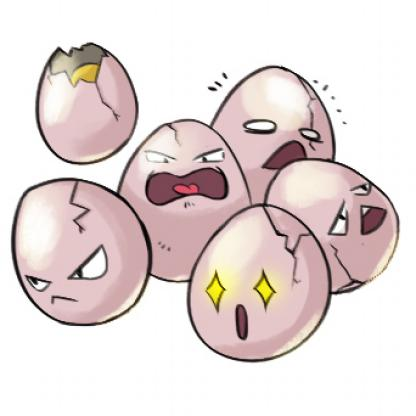Exeggcute: (9, 34, 409, 366)
